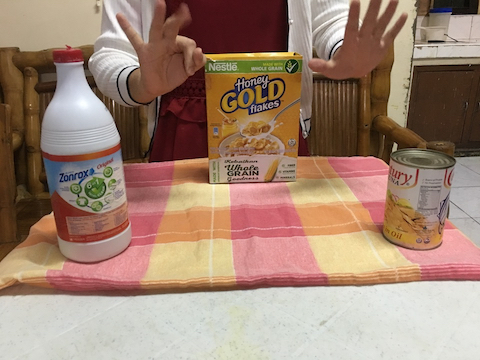bottle: (39, 44, 136, 266)
box: (202, 50, 307, 186)
can: (381, 147, 459, 250)
